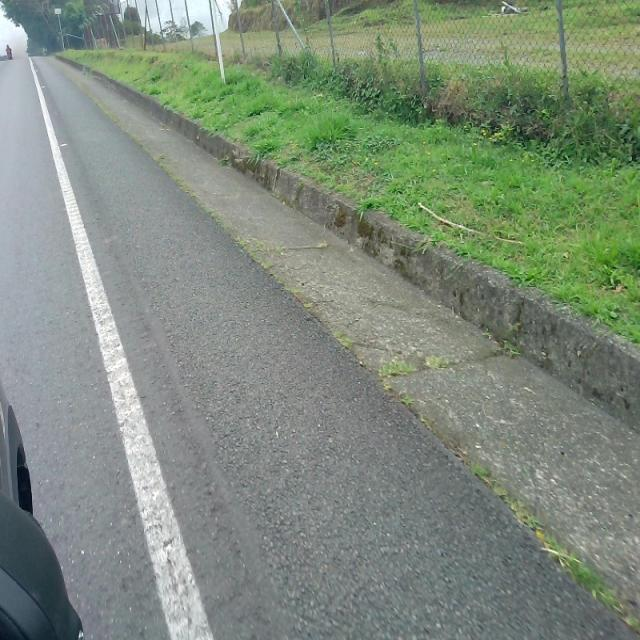DITCH: (2, 39, 638, 638), (36, 51, 638, 638)
